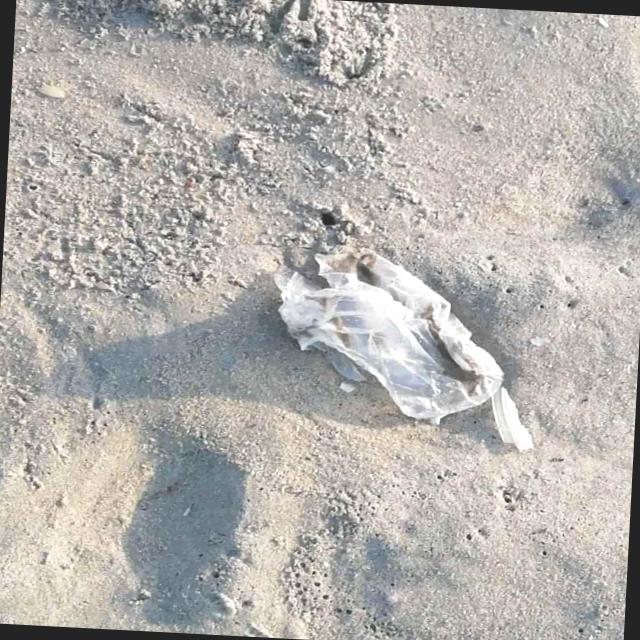nhua: (274, 251, 534, 452)
